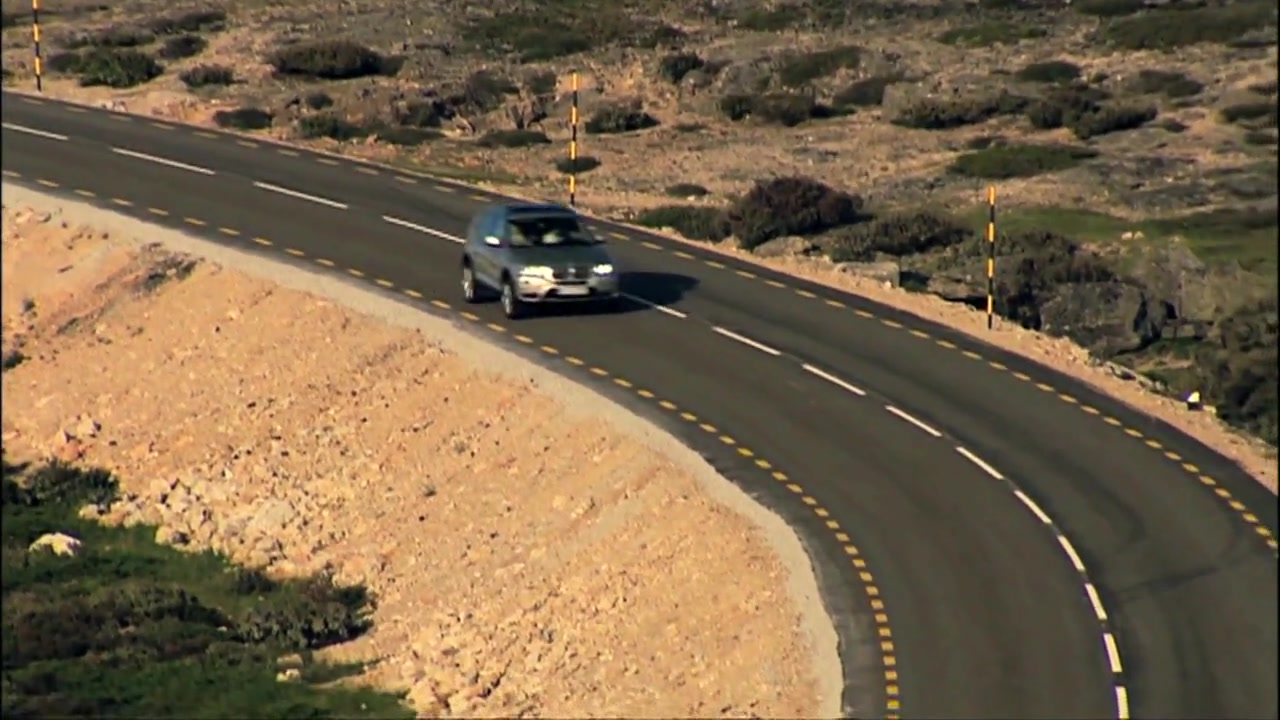car: (459, 199, 627, 322)
